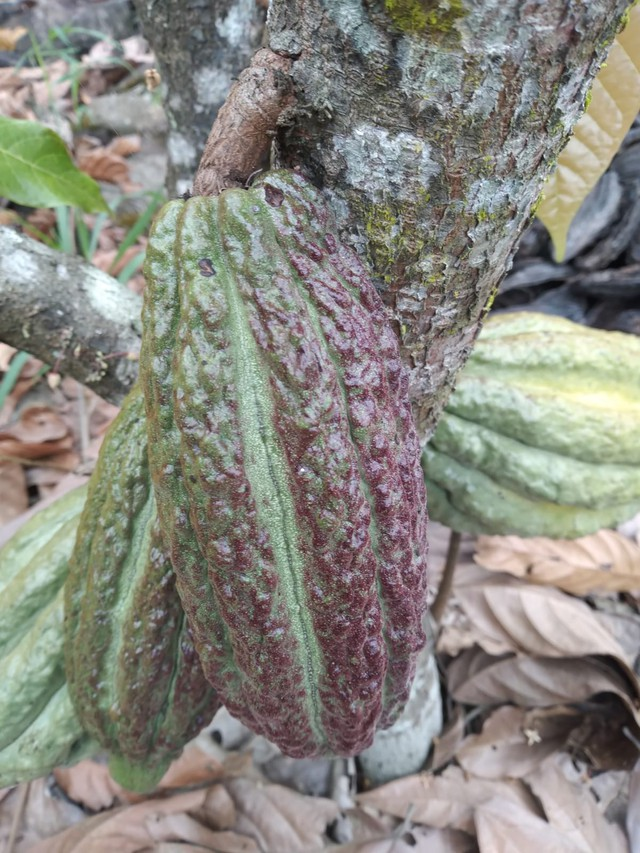Health: (122, 160, 444, 766)
